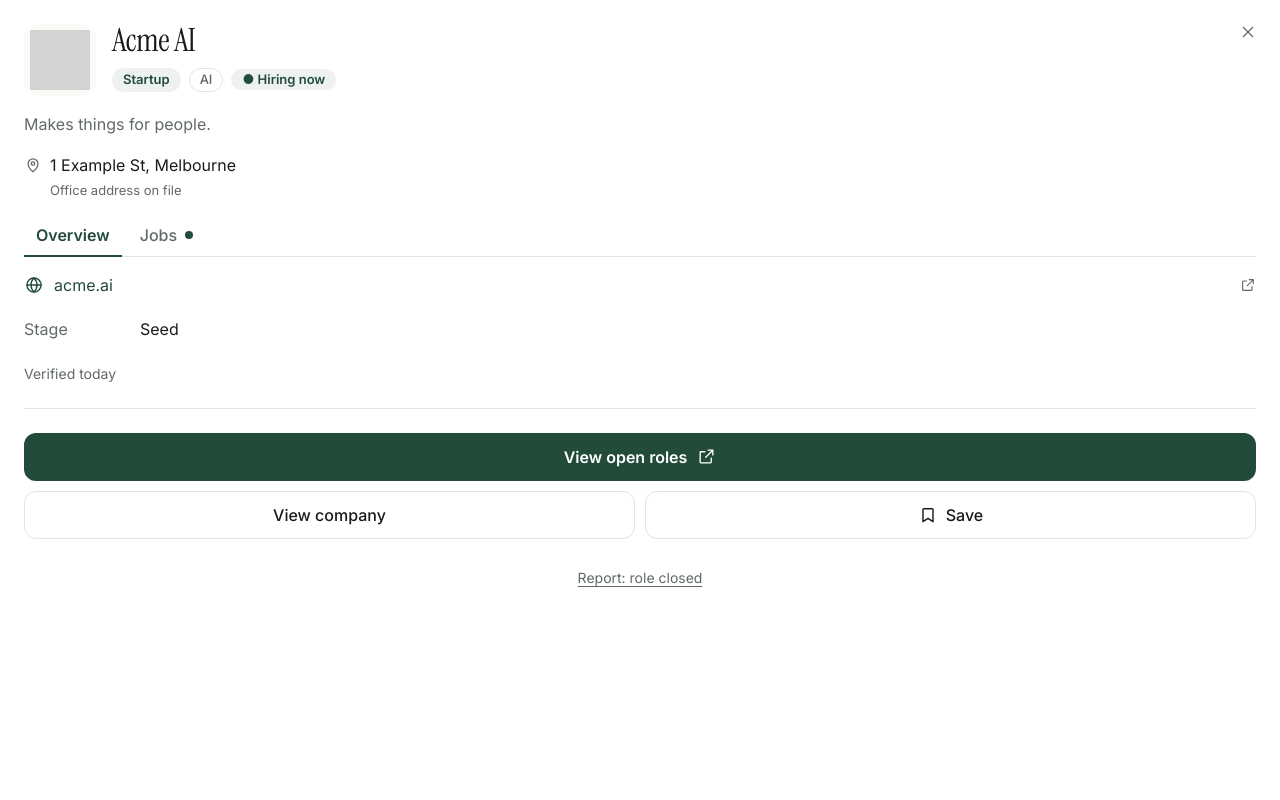
Test: the company's panel: its tabs, its jobs and its way in › has a Jobs tab with what a page says of its open roles, how many, and the way to them
This screenshot has width=1280, height=800.
Step 1. Click the tab "Jobs" → (166, 236), box [128,215,205,257]
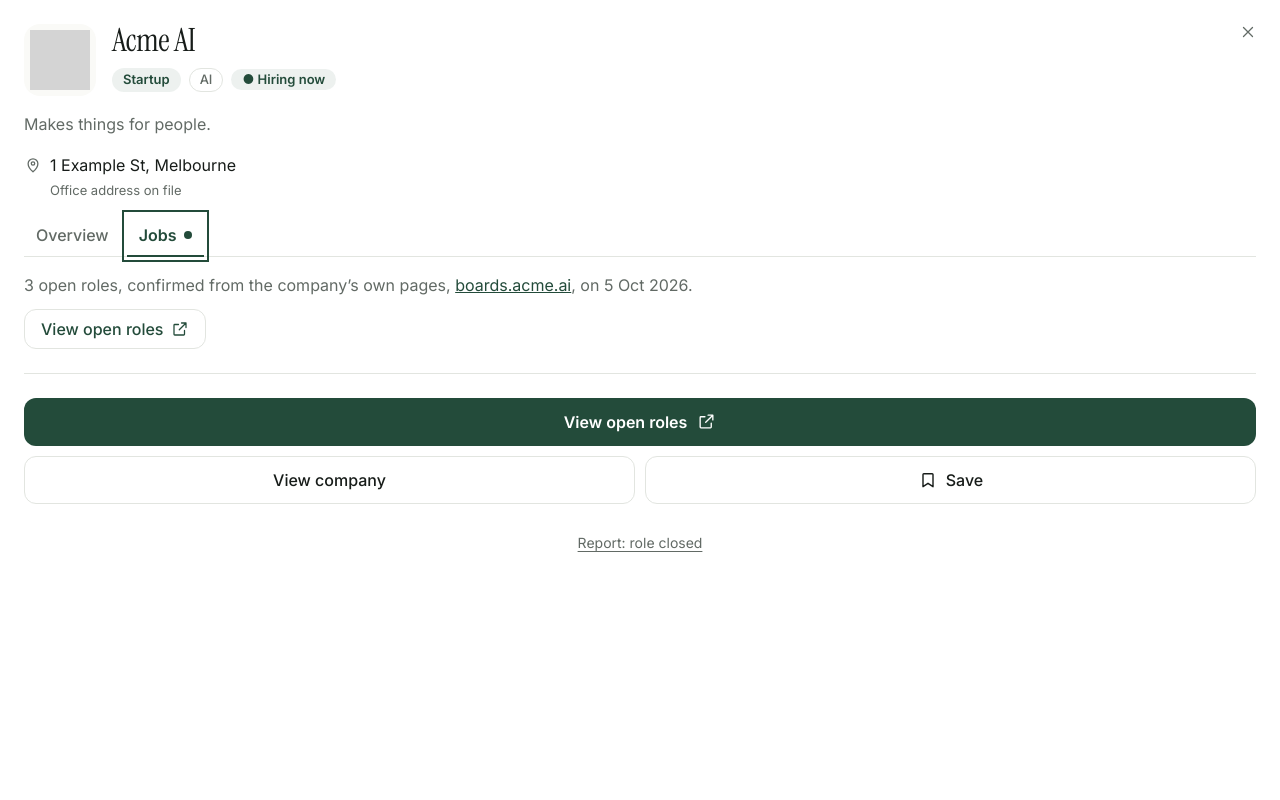
Expected: the text "3 open roles" is shown, [24,275,127,295]
